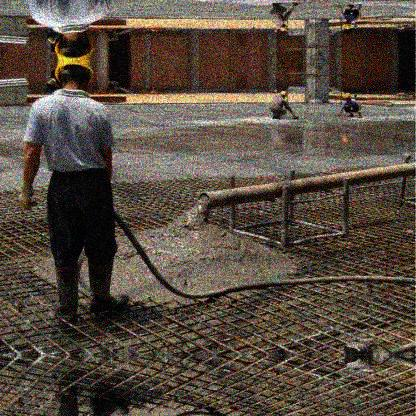helmet: (52, 60, 95, 95), (279, 90, 287, 99)
